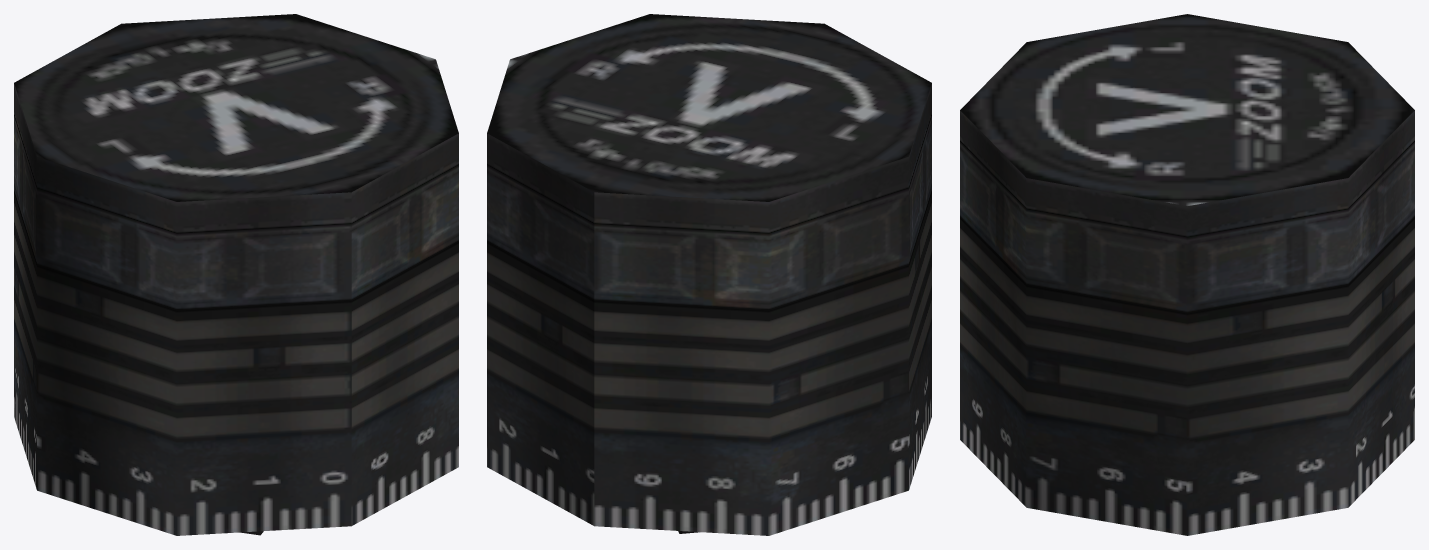
Rendered from t6_attach_optic_vzoom_svu_world_LOD0.obj.
The picture shows the model from 3 angles, left to right: view 1: azimuth 30°, elevation 25°; view 2: azimuth 150°, elevation 25°; view 3: azimuth 270°, elevation 25°; orthographic projection.
Visible parts, largest first — view 1: mtl_t6_attach_optic_vzoom_svu; view 2: mtl_t6_attach_optic_vzoom_svu; view 3: mtl_t6_attach_optic_vzoom_svu.
Boxes of the visible parts, x1,y1,x2,y2 form: mtl_t6_attach_optic_vzoom_svu: [14, 14, 458, 535]; mtl_t6_attach_optic_vzoom_svu: [487, 14, 931, 535]; mtl_t6_attach_optic_vzoom_svu: [960, 14, 1414, 535].
Bounding box in the file's own units: 1.89 × 1.84 × 1.89.
